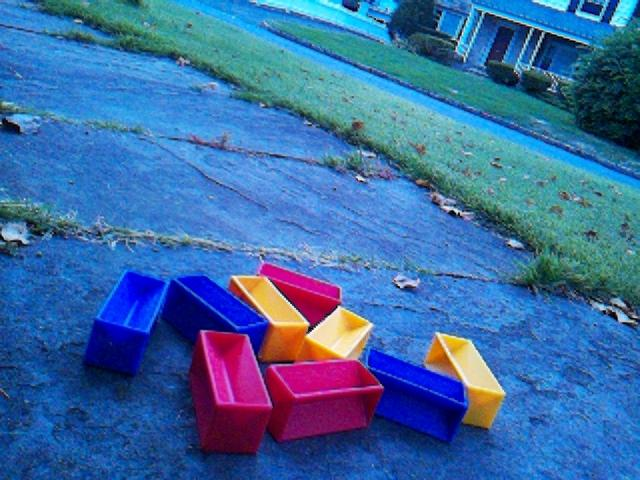blue: (365, 346, 470, 445), (83, 269, 168, 377), (161, 272, 270, 355)
red: (188, 328, 274, 455), (265, 357, 385, 443), (256, 260, 343, 328)
yellow: (424, 330, 507, 430), (228, 273, 310, 362), (302, 305, 374, 362)
